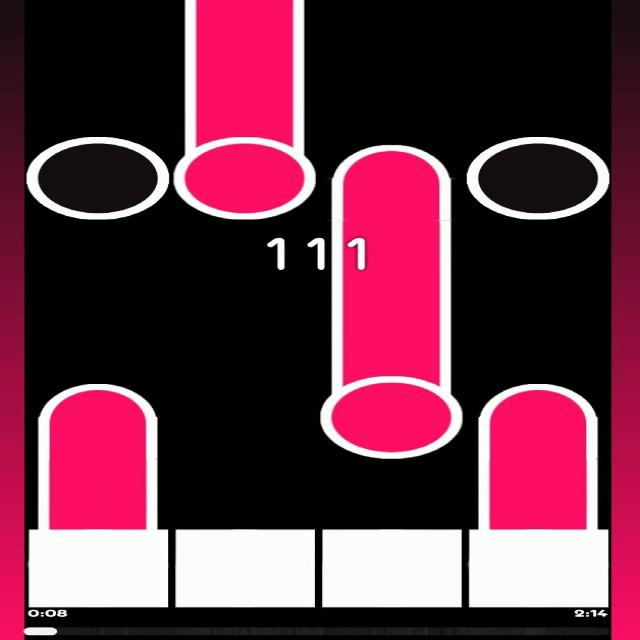end_hold: (479, 370, 601, 427), (35, 376, 159, 426), (329, 138, 453, 185)
note: (25, 135, 169, 222), (466, 137, 610, 220)
start_hold: (322, 354, 466, 460), (173, 122, 316, 218)
